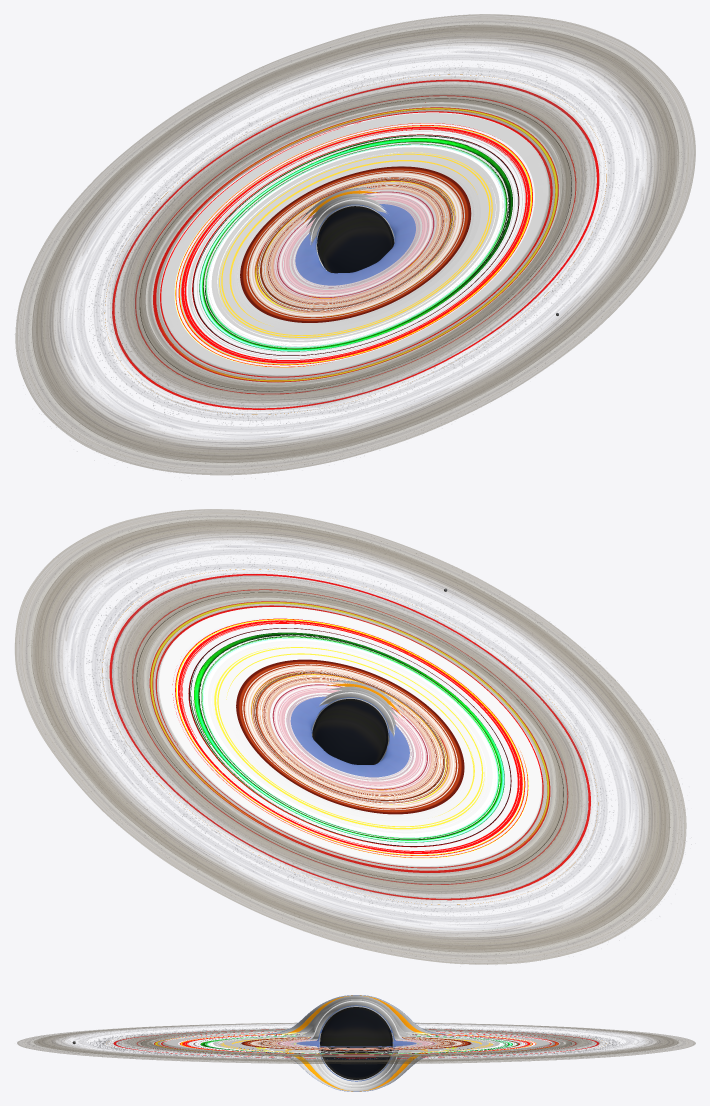
Rendered from black_hole.glb.
3 renders of one model, top to bottom at view 1: azimuth 30°, elevation 25°; view 2: azimuth 150°, elevation 25°; view 3: azimuth 270°, elevation 25°, orthographic. The views are drawn at different scales.
Visible parts, largest first — view 1: black hole_ring, black hole, black hole_black hole blackoutside_0.001, black hole_black hole blackoutside_0.002; view 2: black hole_ring, black hole, black hole_black hole blackoutside_0.001, black hole_black hole blackoutside_0.002; view 3: black hole, black hole_ring, black hole_black hole blackoutside_0.001, black hole_black hole blackoutside_0.002, black hole_ring_ring2_0.001.
Boxes of the visible parts, box(x1,y1,x2,y2) form: black hole_ring: box(15, 14, 695, 475); black hole: box(104, 74, 606, 414); black hole_black hole blackoutside_0.001: box(134, 98, 577, 395); black hole_black hole blackoutside_0.002: box(257, 178, 453, 311); black hole_ring: box(15, 509, 686, 964); black hole: box(102, 569, 598, 904); black hole_black hole blackoutside_0.001: box(131, 588, 569, 885); black hole_black hole blackoutside_0.002: box(253, 671, 446, 802); black hole: box(106, 995, 606, 1091); black hole_ring: box(17, 1022, 695, 1063); black hole_black hole blackoutside_0.001: box(135, 995, 577, 1091); black hole_black hole blackoutside_0.002: box(260, 1038, 452, 1052); black hole_ring_ring2_0.001: box(90, 1028, 622, 1058).
Size of the model in its own units: 3098 by 1220 by 3298.
9 materials, 7 textured.
